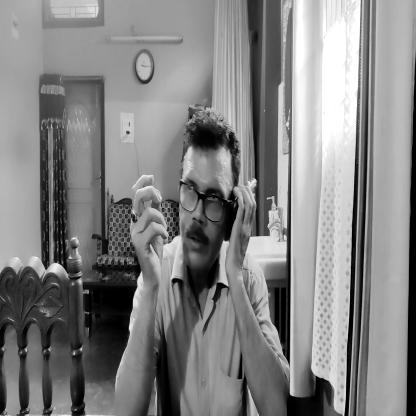Distracted: (176, 107, 237, 284)
